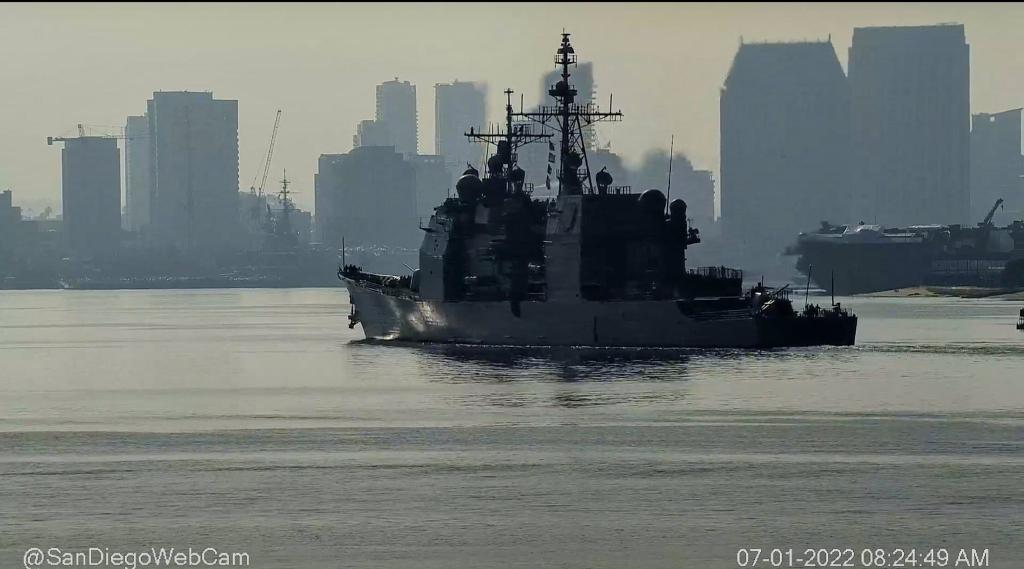Warship: (338, 16, 858, 342)
